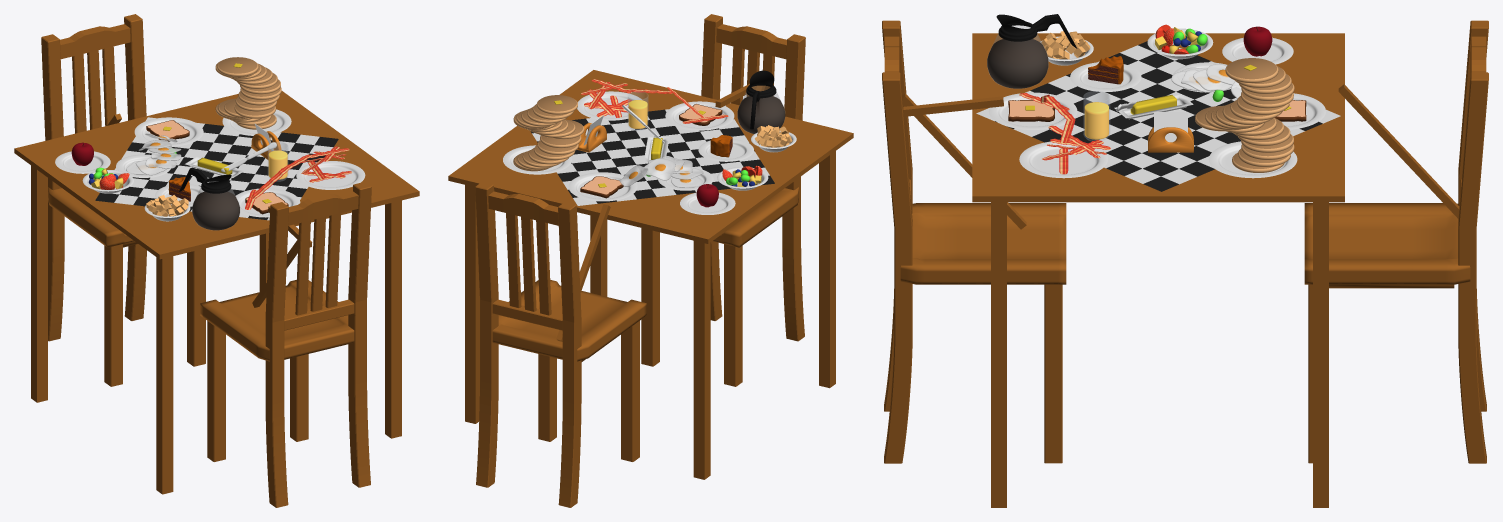
Rendered from table.glb.
3 renders of one model, left to right at view 1: azimuth 30°, elevation 25°; view 2: azimuth 150°, elevation 25°; view 3: azimuth 270°, elevation 25°, orthographic. The views are drawn at different scales.
Parts seen in each view (by area): view 1: Cube.002, Cube.035, Plane.004, Plane.001, Cube.001, Cube.036, Cube.038, Cube.037, Cylinder.004, Cube.028, Cylinder.002, Circle (+10 smaller); view 2: Cube.035, Plane.004, Cube.002, Plane.001, Cube.028, Cube.037, Cube.036, Cube.039, Cylinder.004, Cube.001, Circle, Cube.038 (+13 smaller); view 3: Plane.004, Cube.002, Plane.001, Cube.028, Cube.001, Cube.035, Cube.038, Cube.039, Cylinder.004, Cylinder.002, Cube.003, Cylinder.026 (+15 smaller).
Boxes of the visible parts, bbox=[...] form: Cube.002: bbox=[207, 182, 371, 507]; Cube.035: bbox=[41, 14, 205, 386]; Plane.004: bbox=[14, 91, 419, 259]; Plane.001: bbox=[95, 117, 338, 220]; Cube.001: bbox=[200, 279, 354, 361]; Cube.036: bbox=[156, 256, 173, 494]; Cube.038: bbox=[385, 200, 401, 438]; Cube.037: bbox=[31, 165, 47, 402]; Cylinder.004: bbox=[179, 167, 239, 230]; Cube.028: bbox=[48, 187, 134, 247]; Cylinder.002: bbox=[296, 161, 365, 189]; Circle: bbox=[126, 139, 181, 175]; Cube.035: bbox=[475, 181, 639, 507]; Plane.004: bbox=[448, 70, 853, 243]; Cube.002: bbox=[641, 14, 805, 386]; Plane.001: bbox=[530, 105, 774, 205]; Cube.028: bbox=[492, 280, 646, 361]; Cube.037: bbox=[693, 240, 710, 479]; Cube.036: bbox=[819, 151, 835, 388]; Cube.039: bbox=[465, 185, 479, 423]; Cylinder.004: bbox=[737, 70, 785, 133]; Cube.001: bbox=[713, 187, 798, 247]; Circle: bbox=[644, 156, 703, 187]; Cube.038: bbox=[590, 215, 607, 296]; Plane.004: bbox=[972, 33, 1344, 202]; Cube.002: bbox=[882, 20, 1062, 463]; Plane.001: bbox=[976, 41, 1340, 191]; Cube.028: bbox=[1304, 203, 1470, 284]; Cube.001: bbox=[900, 203, 1066, 284]; Cube.035: bbox=[1308, 20, 1488, 463]; Cube.038: bbox=[991, 202, 1006, 507]; Cube.039: bbox=[1313, 202, 1328, 507]; Cylinder.004: bbox=[987, 14, 1077, 88]; Cylinder.002: bbox=[1019, 141, 1107, 178]; Cube.003: bbox=[1338, 84, 1459, 218]; Cylinder.026: bbox=[988, 92, 1077, 129].
Size of the model in its own units: 2 by 2.3 by 3.15.
